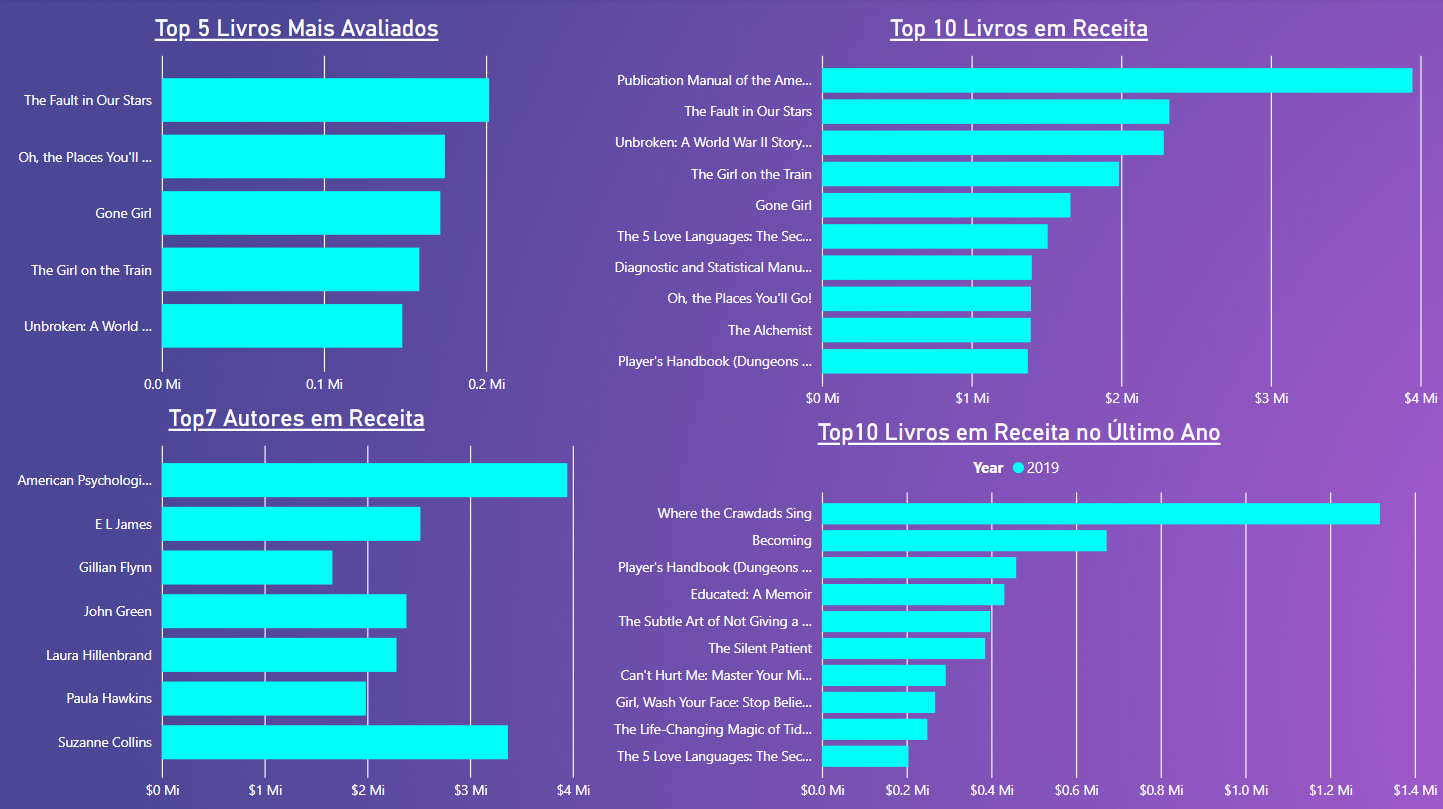

What the dashboard file says about the page in this screenshot:
{"tool":"powerbi","page":{"name":"Top's","canvas":[1280,720],"ordinal":1},"visuals":[{"type":"clusteredBarChart","title":"Top 5 Livros Mais Avaliados","fields":{"Y":["bestsellers with categories.Reviews"],"Category":["bestsellers with categories.Name"]},"box":[0,15.2,528.9,345.1],"z":0},{"type":"clusteredBarChart","title":"Top 10 Livros em Receita","fields":{"Category":["bestsellers with categories.Name"],"Y":["bestsellers with categories.Vendido"]},"box":[528.9,15.2,751.1,357.6],"z":1},{"type":"clusteredBarChart","title":"Top10 Livros em Receita no Último Ano","fields":{"Category":["bestsellers with categories.Name"],"Y":["bestsellers with categories.Vendido"],"Series":["bestsellers with categories.Year"]},"box":[528.9,372.9,751.1,346.9],"z":2},{"type":"clusteredBarChart","title":"Top7 Autores em Receita","fields":{"Category":["bestsellers with categories.Author"],"Y":["bestsellers with categories.Vendido"]},"box":[0,360.3,528.9,359.4],"z":3}]}

Visuals, with their boxes in screenshot pixels (x1, y1, x2, y2), scaled from the page's 1280x720 canvas onto the 1443x809 screenshot:
"Top 5 Livros Mais Avaliados" clusteredBarChart: bbox(0, 17, 596, 405)
"Top 10 Livros em Receita" clusteredBarChart: bbox(596, 17, 1442, 419)
"Top10 Livros em Receita no Último Ano" clusteredBarChart: bbox(596, 419, 1442, 808)
"Top7 Autores em Receita" clusteredBarChart: bbox(0, 405, 596, 808)
